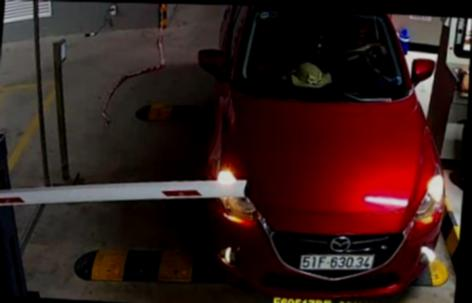License_Plate: (298, 250, 379, 278)
